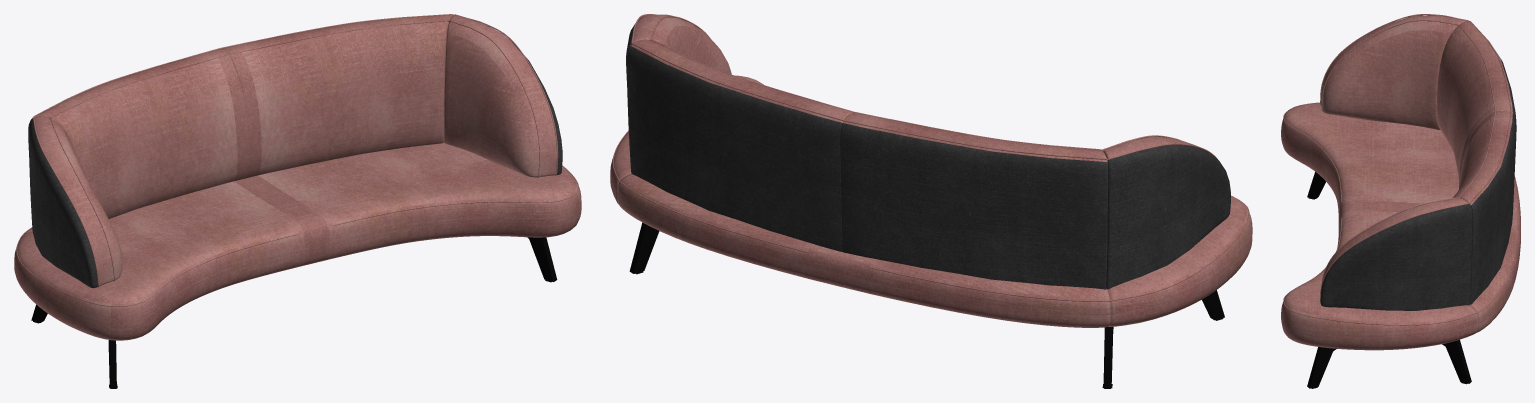
The model's file is testmodel.glb.
The picture shows the model from 3 angles, left to right: view 1: azimuth 30°, elevation 25°; view 2: azimuth 150°, elevation 25°; view 3: azimuth 270°, elevation 25°; orthographic projection. The views are drawn at different scales.
Visible parts, largest first — view 1: sofa_3 (×2), legs_sofa (×2); view 2: sofa_3 (×2), legs_sofa (×2); view 3: sofa_3 (×2), legs_sofa (×2).
Boxes of the visible parts, left/top/right/bottom form: sofa_3 (×2): left=14, top=14, right=581, bottom=340; legs_sofa (×2): left=31, top=237, right=557, bottom=388; sofa_3 (×2): left=610, top=14, right=1252, bottom=327; legs_sofa (×2): left=629, top=222, right=1224, bottom=388; sofa_3 (×2): left=1281, top=14, right=1520, bottom=350; legs_sofa (×2): left=1307, top=172, right=1471, bottom=388.
Size of what is drawn, in the model's own units: 2.21 by 0.8448 by 1.01.
4 materials, 2 textured.
